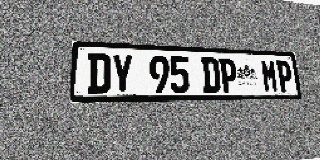5: (169, 56, 190, 93)
9: (149, 55, 170, 93)
D: (87, 53, 110, 94), (201, 57, 221, 93)
M: (260, 60, 279, 92)
P: (219, 58, 238, 93), (275, 60, 293, 92)
Y: (111, 54, 133, 94)
